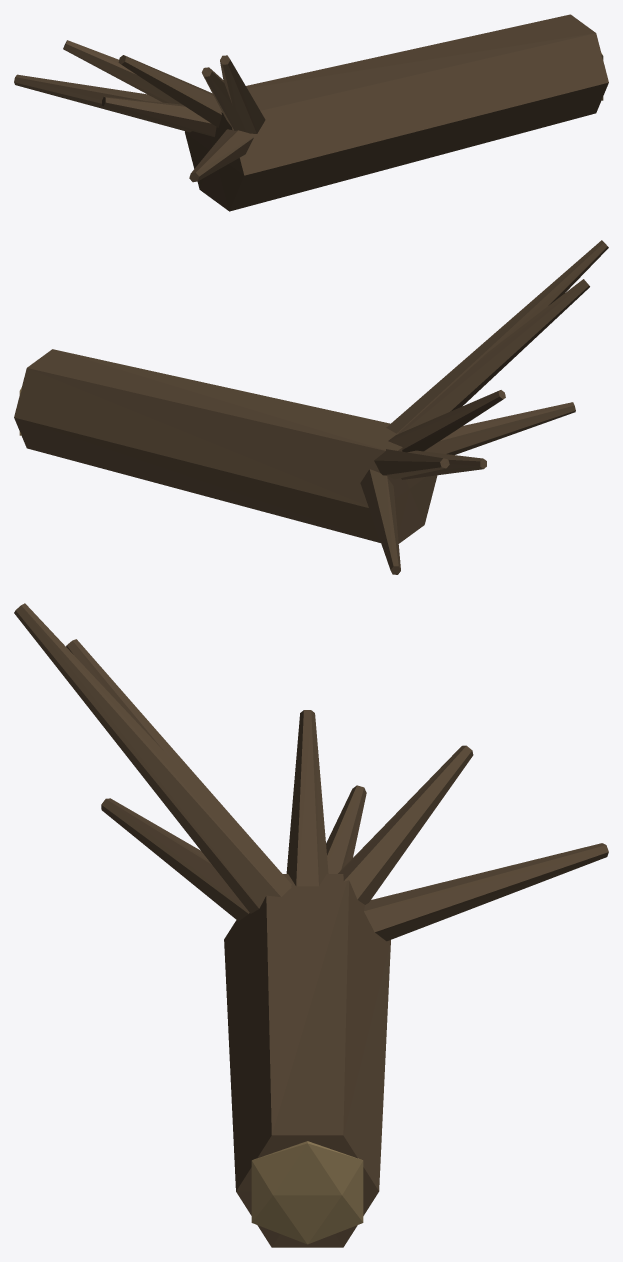
File: exposed_roots.glb
The picture shows the model from 3 angles, top to bottom: view 1: azimuth 30°, elevation 25°; view 2: azimuth 150°, elevation 25°; view 3: azimuth 270°, elevation 25°; orthographic projection. The views are drawn at different scales.
Parts seen in each view (by area): view 1: world-scenery/exposed_roots; view 2: world-scenery/exposed_roots; view 3: world-scenery/exposed_roots.
Part boxes in pixels (x1,y1,x2,y2): world-scenery/exposed_roots: (14,14,608,211); world-scenery/exposed_roots: (14,240,608,574); world-scenery/exposed_roots: (14,603,608,1247).
Bounding box in the file's own units: 2.55 × 1.25 × 1.99.
